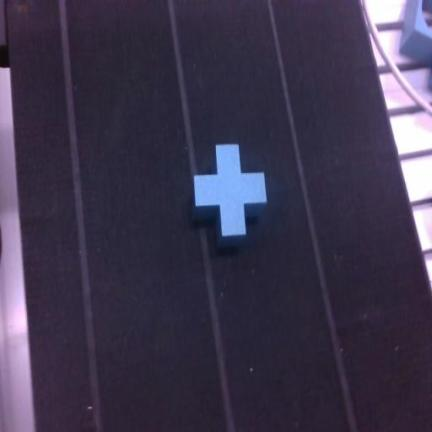cross: (195, 145, 266, 245)
